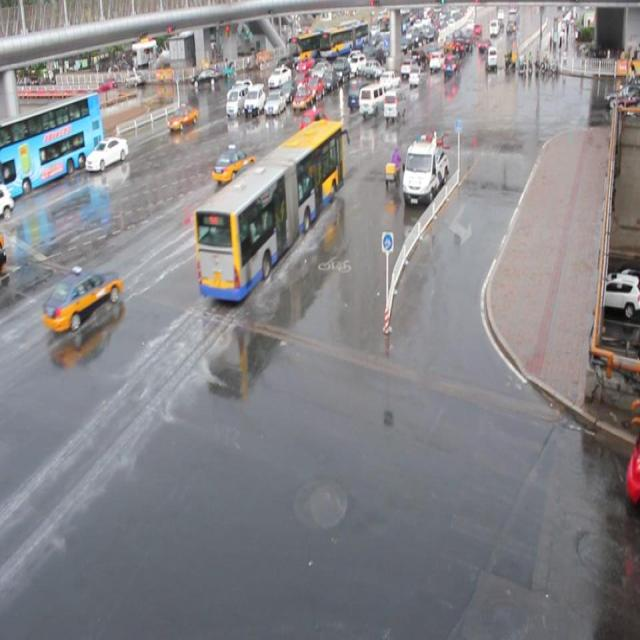bus: (402, 137, 448, 206)
car: (42, 266, 122, 330), (229, 161, 272, 204), (211, 143, 256, 182), (270, 135, 309, 177), (85, 136, 129, 170), (299, 108, 331, 143), (166, 102, 198, 130), (347, 78, 372, 110), (227, 79, 255, 104), (265, 92, 286, 117), (292, 87, 312, 113), (305, 76, 324, 102), (279, 80, 298, 104), (292, 72, 311, 94)
truck: (357, 83, 388, 116), (226, 84, 252, 116), (383, 88, 405, 122), (246, 85, 268, 116)
van: (194, 118, 344, 302), (1, 90, 105, 200)
